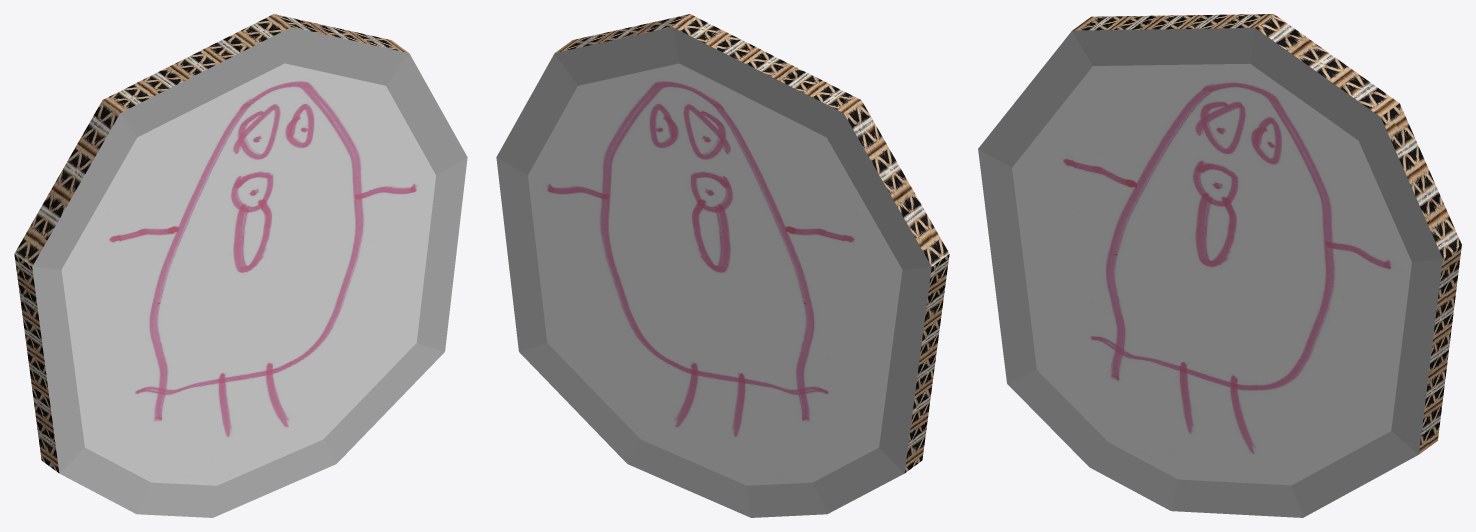
The model's file is Tahmis.fbx.
The picture shows the model from 3 angles, left to right: view 1: azimuth 30°, elevation 25°; view 2: azimuth 150°, elevation 25°; view 3: azimuth 330°, elevation 25°; orthographic projection. The views are drawn at different scales.
Visible parts, largest first — view 1: Tahmis; view 2: Tahmis; view 3: Tahmis.
Boxes of the visible parts, x1,y1,x2,y2 form: Tahmis: (14, 14, 467, 517); Tahmis: (496, 14, 949, 517); Tahmis: (978, 14, 1461, 517).
Size of the model in its own units: 205 by 212 by 14.49.
